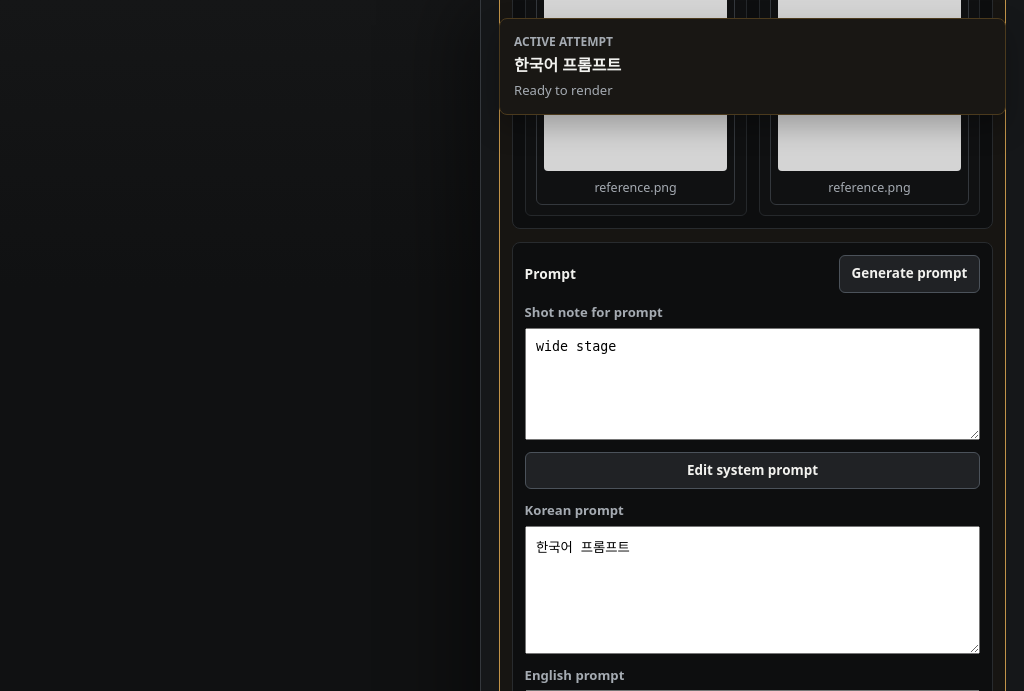
ShotDrawer asset attempts › sends shot note and editable system prompt when generating a prompt
The width and height of the screenshot is (1024, 691).
(page scrolled)
Replace the text in the text box named "Shot note for prompt for attempt attempt-1" with "인물이 신나게 손을 펼치며 랩을 한다": (752, 384) 525,328 -> 980,440
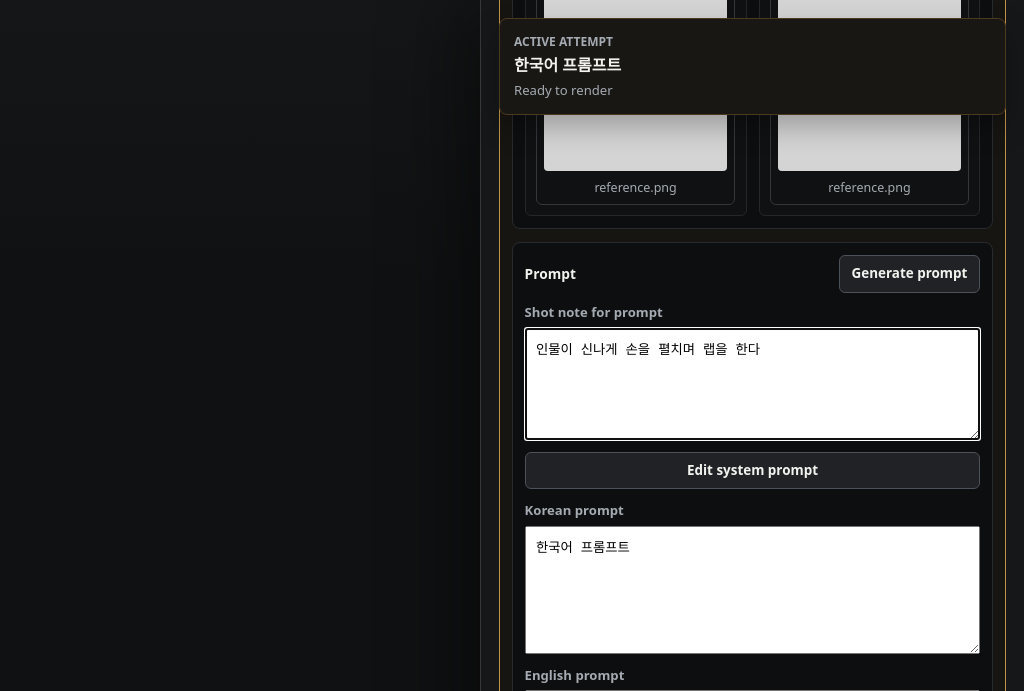
Click the button with aria-label "Edit system prompt for attempt attempt-1": (752, 470) 525,452 -> 980,489
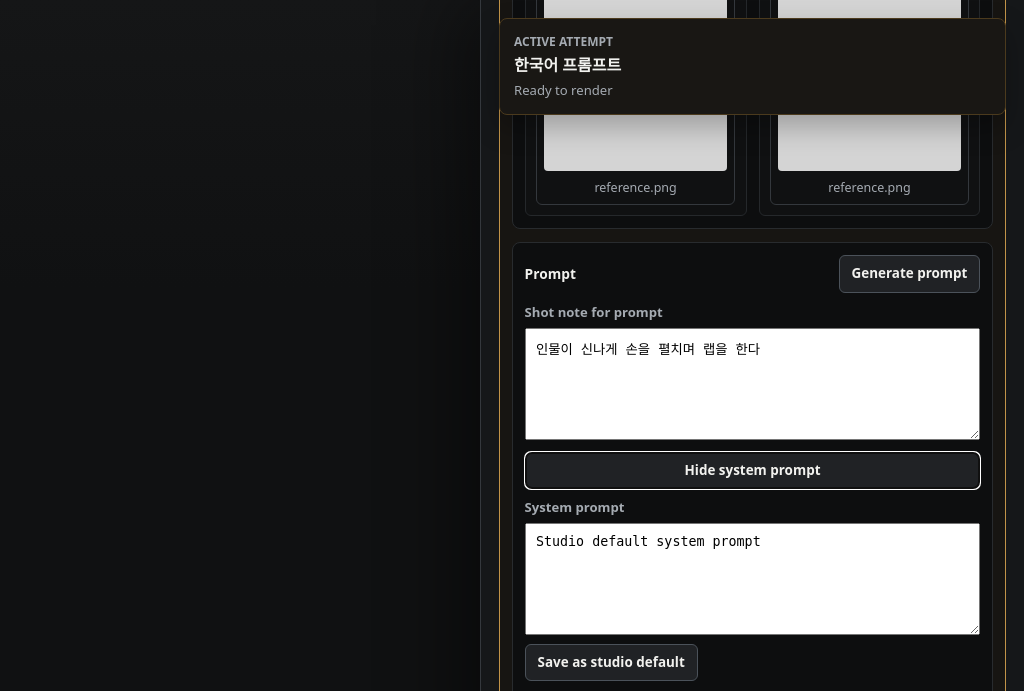
Replace the text in the text box named "System prompt for attempt attempt-1" with "Custom LTX direction": (752, 579) 525,523 -> 980,635
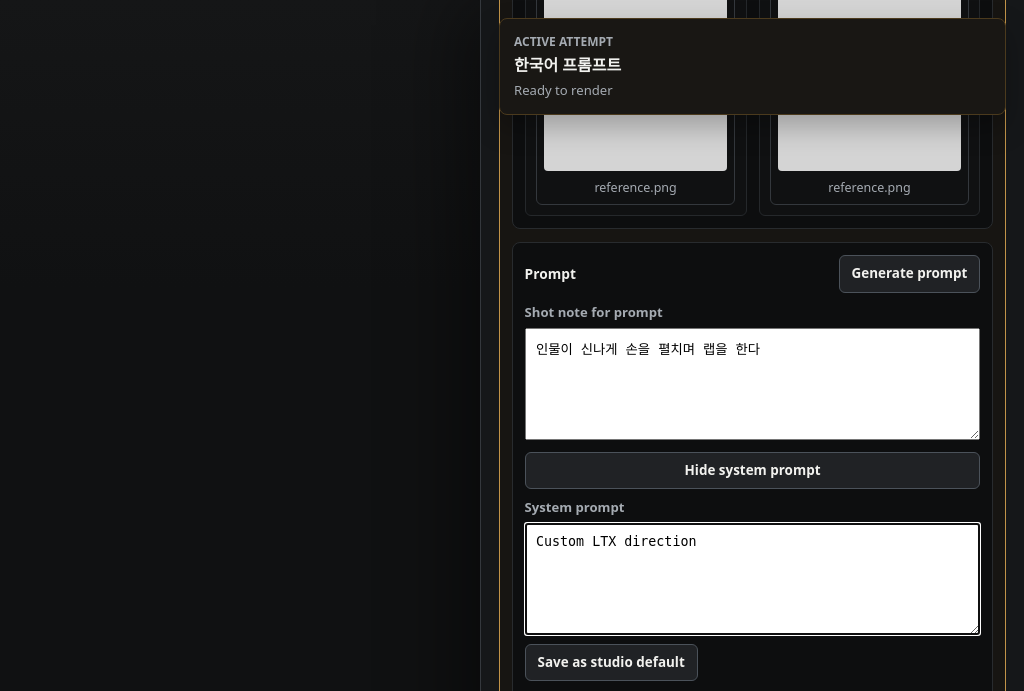
Click the button with aria-label "Generate prompt for attempt attempt-1": (909, 274) 838,255 -> 980,293
(page scrolled)
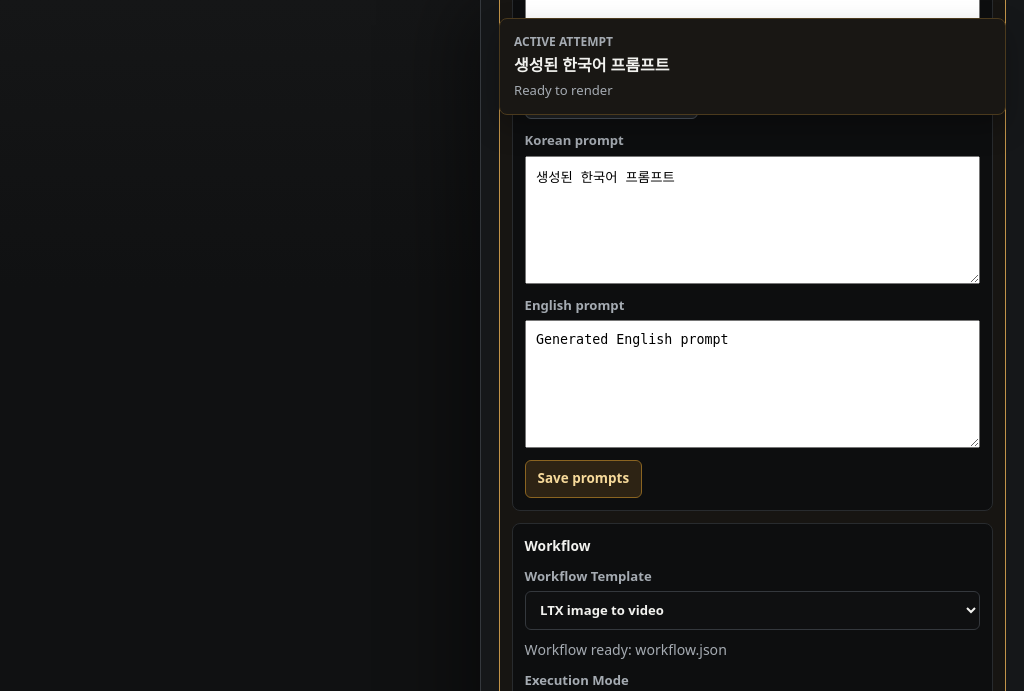
Expected: the text box showing "Generated English prompt" is shown, 525,320 -> 980,448
